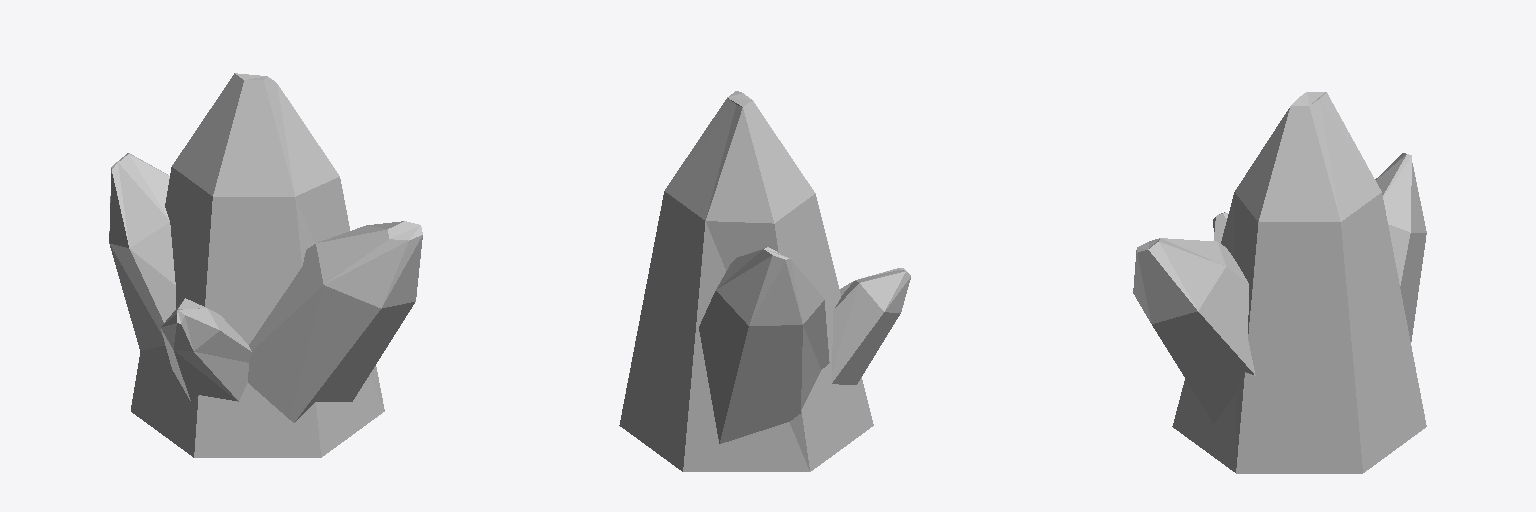
The model's file is crystal3.obj.
3 views of the same model, side by side, from view 1: azimuth 30°, elevation 25°; view 2: azimuth 150°, elevation 25°; view 3: azimuth 270°, elevation 25° (orthographic).
Parts seen in each view (by area): view 1: Cone.002_Cone.006; view 2: Cone.002_Cone.006; view 3: Cone.002_Cone.006.
Boxes of the visible parts, x1,y1,x2,y2 form: Cone.002_Cone.006: [109, 73, 422, 457]; Cone.002_Cone.006: [619, 91, 910, 471]; Cone.002_Cone.006: [1133, 92, 1426, 473].
Bounding box in the file's own units: 1.72 × 2.44 × 1.96.